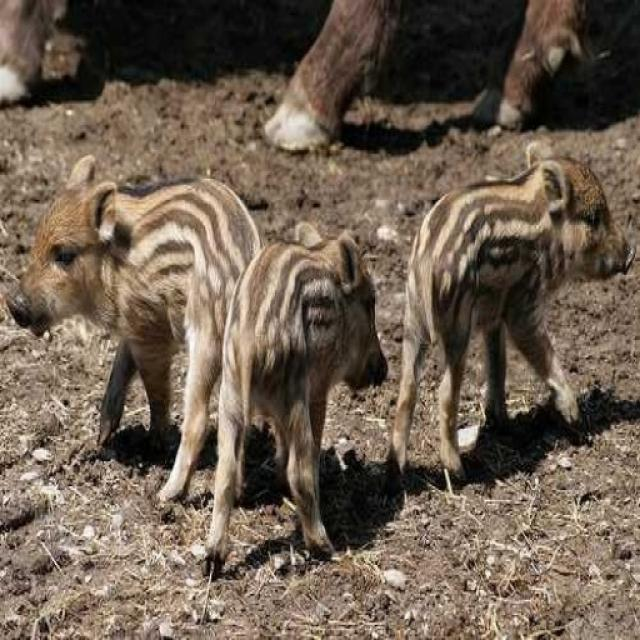pig: (370, 128, 627, 428), (16, 132, 208, 409), (233, 238, 373, 556)
